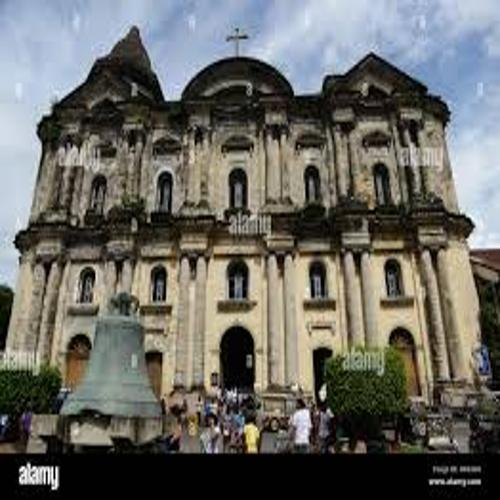Taal Basilica Church: (5, 19, 490, 432)
